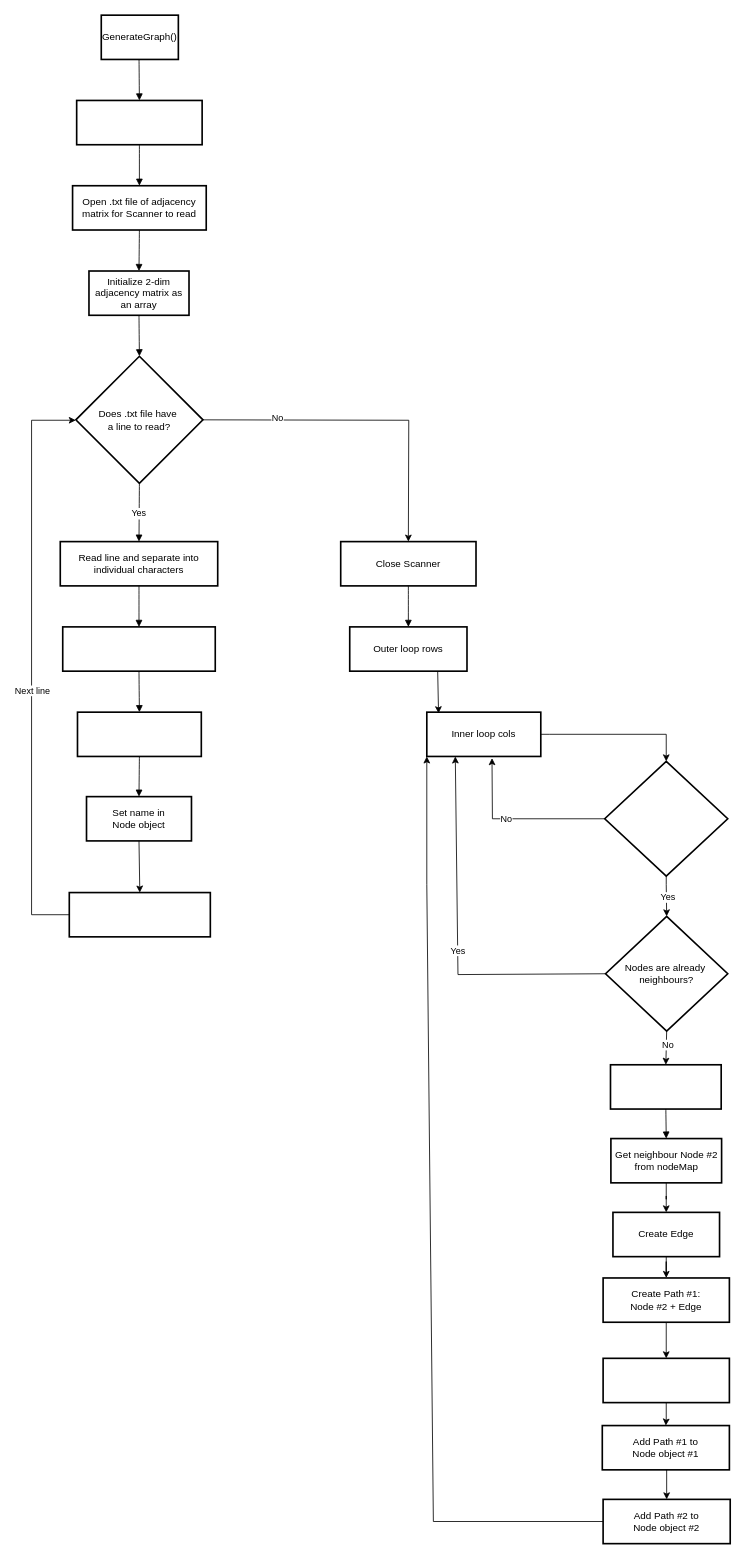
This 745x1558 diagram has some shape labels left out. The centre of each missing label's shape, as x and y in pixels:
"Create Node object" belongs at (139,734).
"Create Path #2: Node #1 + Edge" belongs at (666,1380).
"Get neighbour Node #1 from nodeMap" belongs at (665,1086).
"Initialize nodeMap" belongs at (139,122).
"Node has neighbour?" belongs at (666,818).
"Put Node object in nodeMap" belongs at (139,914).
"Store each char in sequence in the array" belongs at (138,649).
